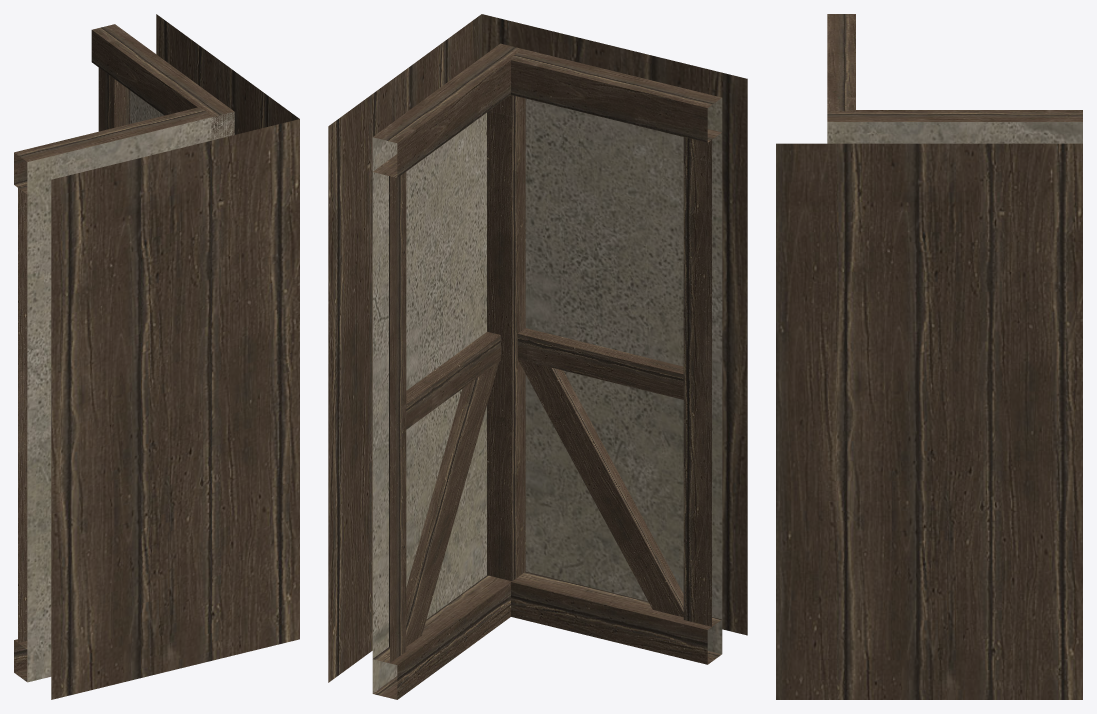
The model's file is ARC1010300.fbx.
3 renders of one model, left to right at view 1: azimuth 30°, elevation 25°; view 2: azimuth 150°, elevation 25°; view 3: azimuth 270°, elevation 25°, orthographic. The views are drawn at different scales.
Visible parts, largest first — view 1: smARC1010300; view 2: smARC1010300; view 3: smARC1010300.
Boxes of the visible parts, x1,y1,x2,y2 form: smARC1010300: (14, 14, 299, 699); smARC1010300: (328, 14, 747, 699); smARC1010300: (776, 14, 1082, 699).
Size of the model in its own units: 134 by 268 by 134.
1 material, 1 textured.
